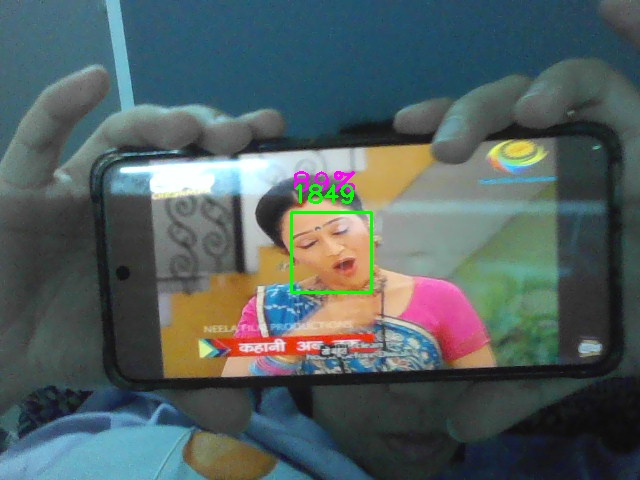fake: (291, 212, 372, 293)
